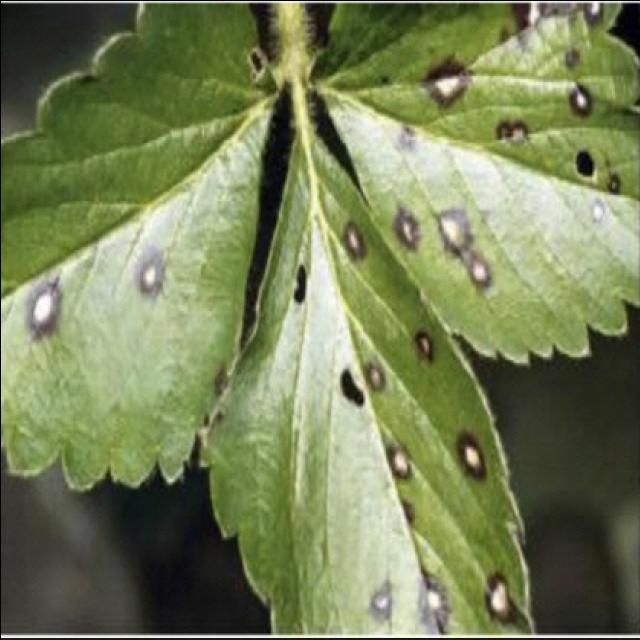Leaf Spot: (195, 119, 535, 636), (0, 2, 279, 493), (310, 2, 638, 365)
